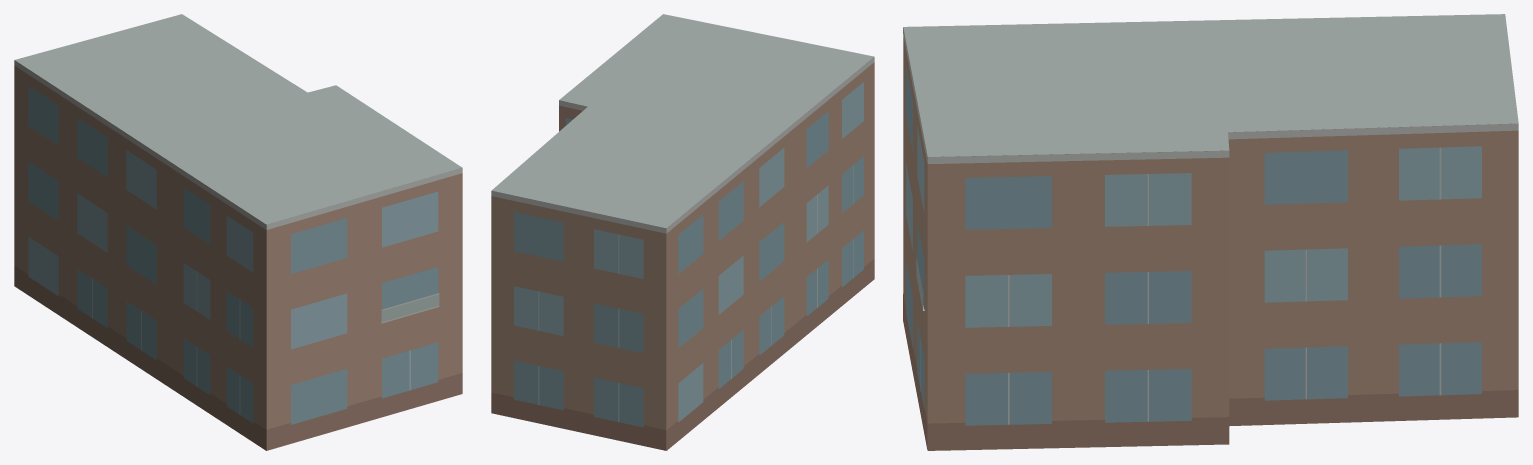
File: survey-upis-32623300.glb
The picture shows the model from 3 angles, left to right: view 1: azimuth 30°, elevation 25°; view 2: azimuth 150°, elevation 25°; view 3: azimuth 270°, elevation 25°; orthographic projection. The views are drawn at different scales.
Parts seen in each view (by area): view 1: survey-upis-32623300.tmp; view 2: survey-upis-32623300.tmp; view 3: survey-upis-32623300.tmp.
Boxes of the visible parts, <box> form: survey-upis-32623300.tmp: <box>14,14,462,450</box>; survey-upis-32623300.tmp: <box>491,14,874,450</box>; survey-upis-32623300.tmp: <box>903,14,1518,450</box>.
Bounding box in the file's own units: 10.56 × 10.1 × 19.19.
